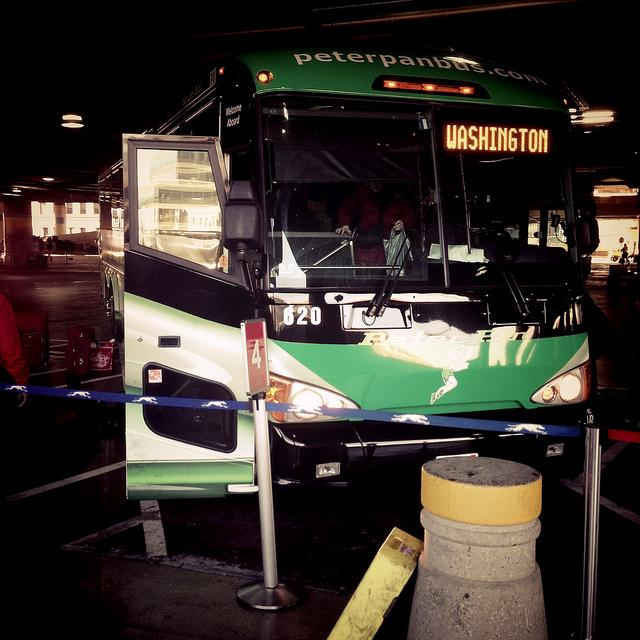Bus: (94, 63, 640, 507)
People: (343, 168, 415, 291)
